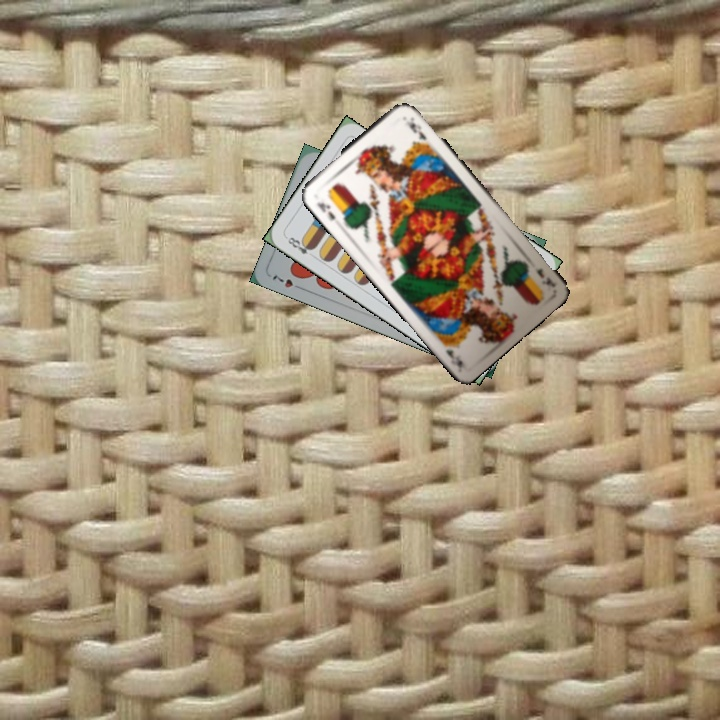E8: (282, 233, 317, 257)
EK: (530, 264, 558, 289), (313, 198, 338, 223)
H7: (268, 271, 306, 293)
